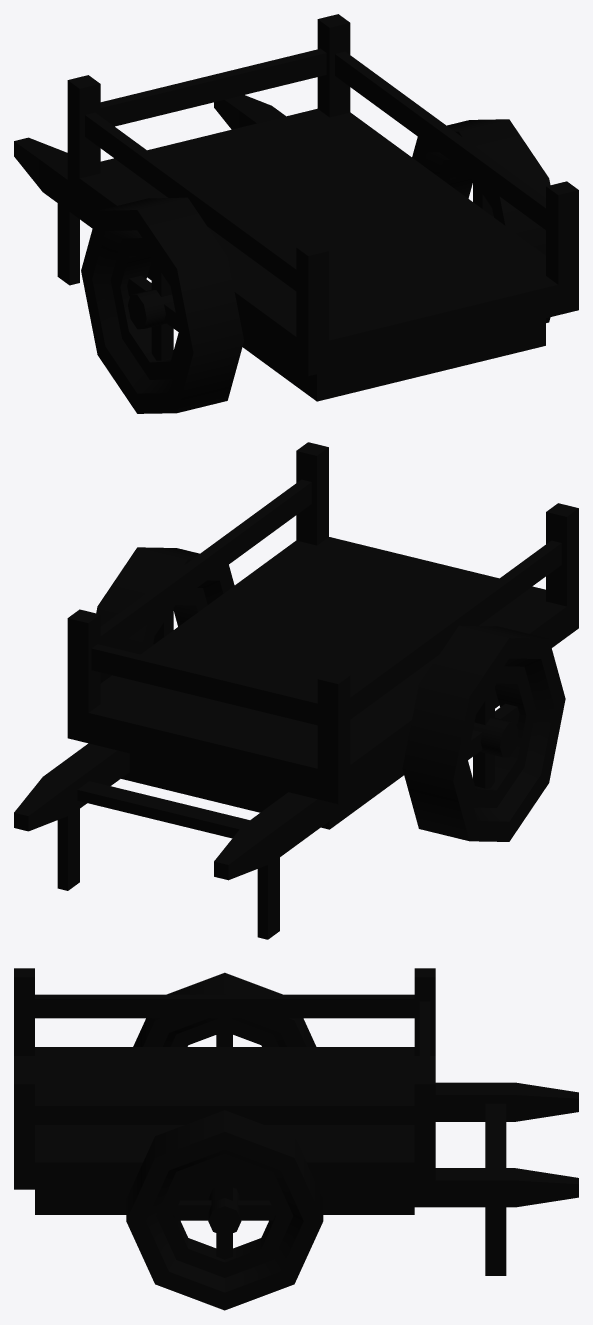
The model's file is cart.glb.
3 renders of one model, top to bottom at view 1: azimuth 30°, elevation 25°; view 2: azimuth 150°, elevation 25°; view 3: azimuth 270°, elevation 25°, orthographic. The views are drawn at different scales.
Visible parts, largest first — view 1: cart; view 2: cart; view 3: cart.
Boxes of the visible parts, left/top/right/bottom form: cart: left=14, top=14, right=578, bottom=413; cart: left=14, top=442, right=578, bottom=939; cart: left=14, top=968, right=578, bottom=1310.
Size of the model in its own units: 0.8931 by 0.5354 by 1.34.
1 material, 1 textured.
